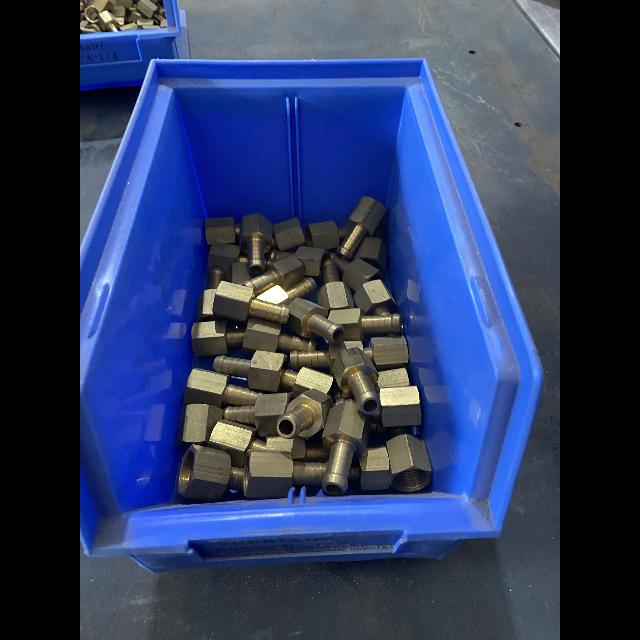Brass: (321, 400, 371, 495), (243, 449, 327, 498), (178, 445, 244, 501), (331, 348, 380, 414), (213, 281, 288, 324), (337, 196, 386, 259), (214, 350, 287, 392), (223, 393, 291, 436), (185, 367, 259, 406), (241, 253, 305, 296), (276, 390, 332, 439), (80, 0, 164, 32), (386, 434, 432, 492), (208, 421, 266, 467), (287, 298, 344, 344), (242, 318, 316, 352), (328, 308, 403, 340), (290, 341, 363, 369), (317, 258, 355, 311), (240, 213, 272, 275), (191, 321, 246, 356), (331, 252, 379, 291), (351, 446, 390, 491), (257, 276, 317, 305), (379, 386, 421, 427), (182, 403, 223, 443), (353, 279, 397, 315), (196, 268, 225, 322), (363, 336, 408, 370), (280, 367, 334, 395), (208, 242, 248, 273), (353, 237, 387, 273), (295, 245, 329, 277), (273, 218, 305, 250), (305, 221, 340, 250), (205, 217, 240, 245), (266, 436, 305, 460), (377, 368, 410, 388), (226, 262, 250, 284), (304, 449, 327, 462), (338, 226, 348, 241)
